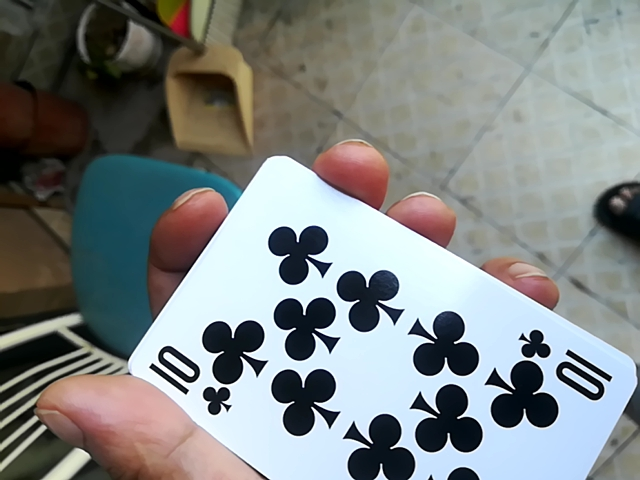mh 10: (96, 157, 627, 475)
